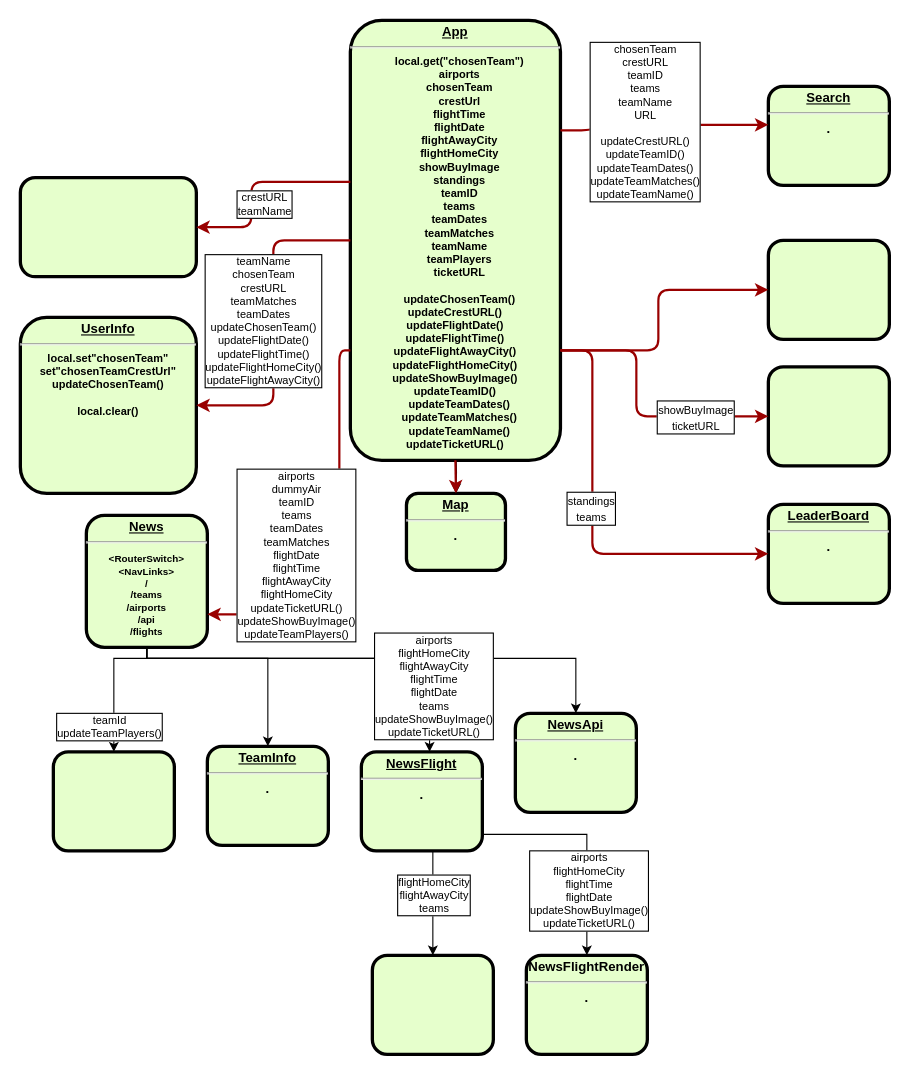
Image size: 910x1075. Some labels were removed from this diagram. The centre of each missing label's shape, as x and y in pixels:
AllAboutTeam .: (x=113, y=801)
Buy .: (x=828, y=416)
MatchInfo .: (x=432, y=1004)
NextMatch .: (x=828, y=289)
TeamCrest local.get"chosenTeam" get"chosenTeamCrestUrl": (x=107, y=226)
